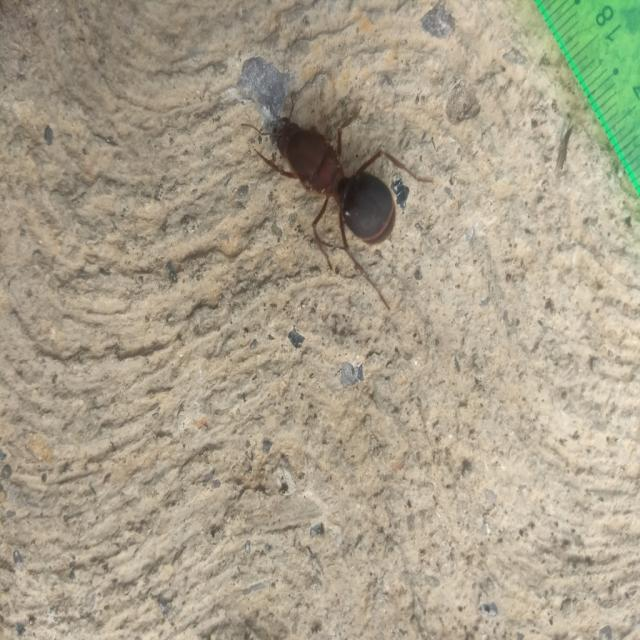Alive-Female-Dealate: (241, 90, 434, 312)
